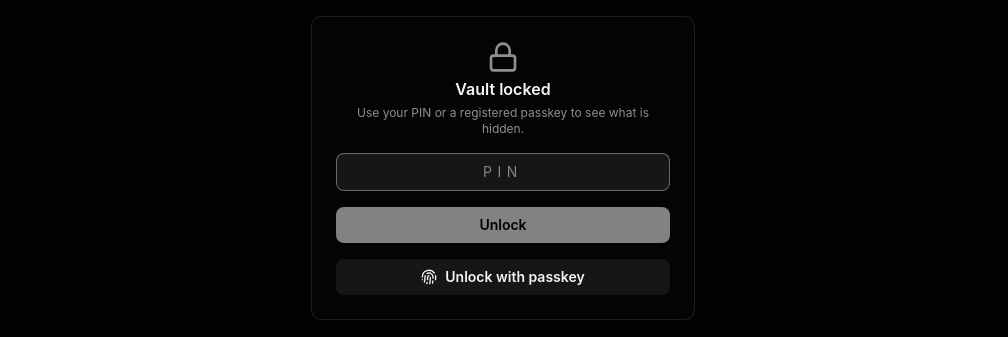
Test: vault passkey unlock › opens the vault with a passkey without entering a PIN
Click the button "Unlock with passkey": point(503, 277) [336, 259, 670, 295]
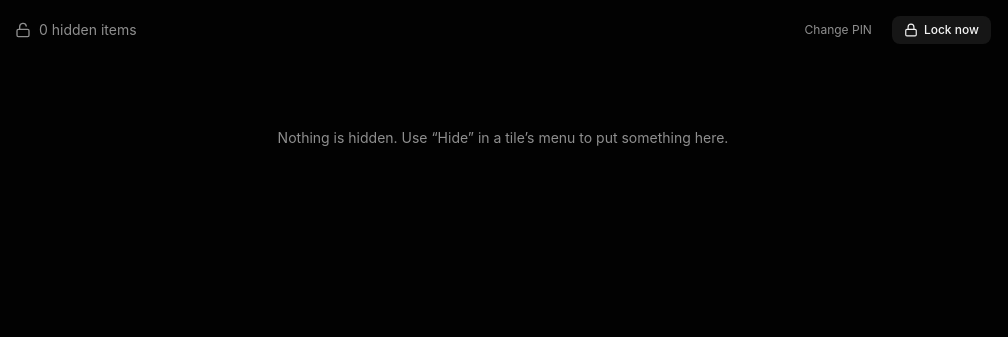
Result: the button "Lock now" is shown at [892, 16, 991, 44]
